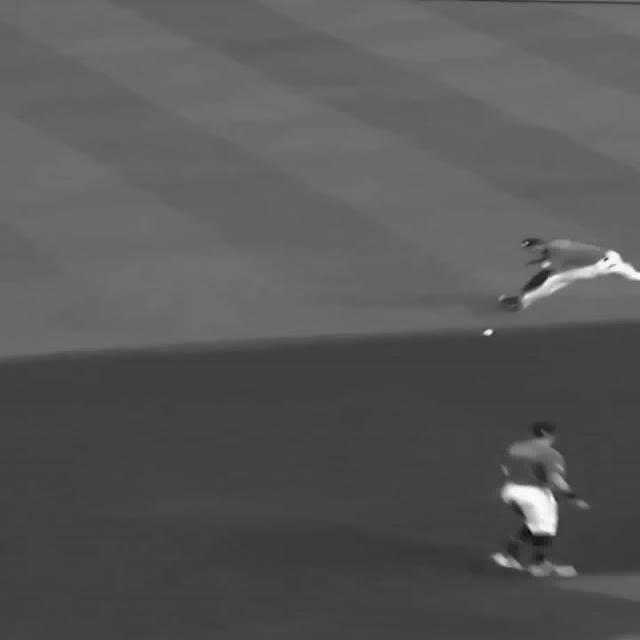baseball: (482, 328, 494, 336)
baseball_glove: (495, 293, 523, 311)
shoe: (527, 560, 577, 577), (489, 551, 523, 570), (553, 564, 577, 577)
